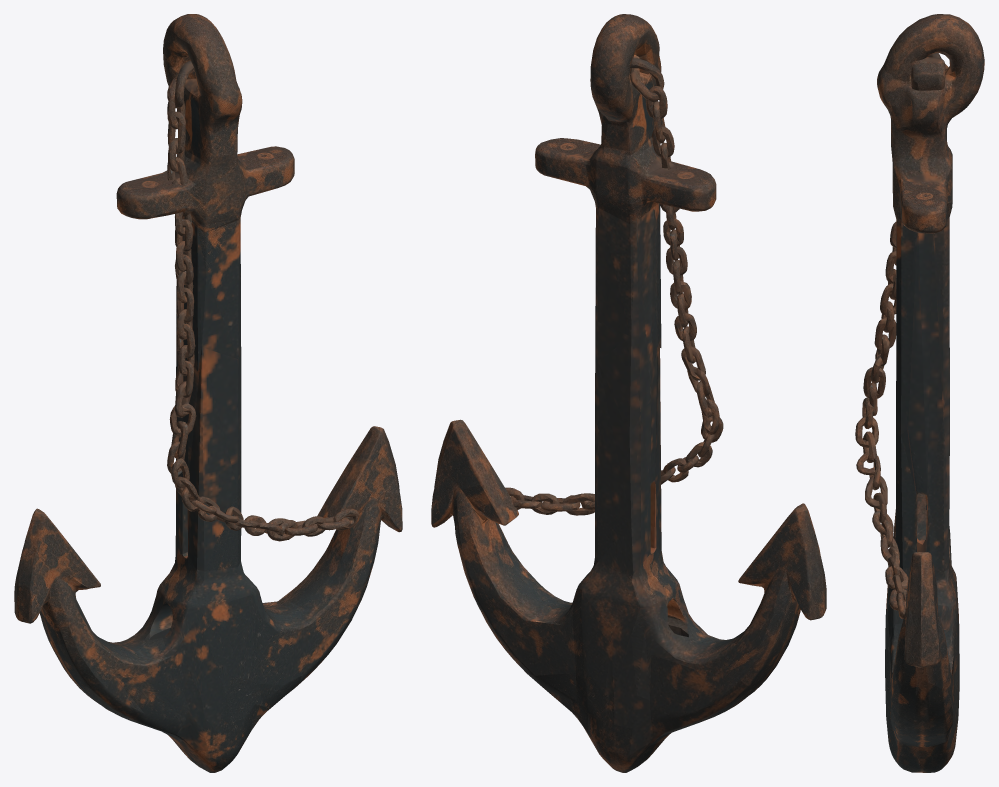
The model's file is ancora.glb.
3 views of the same model, side by side, from view 1: azimuth 30°, elevation 25°; view 2: azimuth 150°, elevation 25°; view 3: azimuth 270°, elevation 25° (orthographic).
Size of the model in its own units: 1.02 by 1.9 by 0.296.
Materials: 1 (1 with a texture image).
